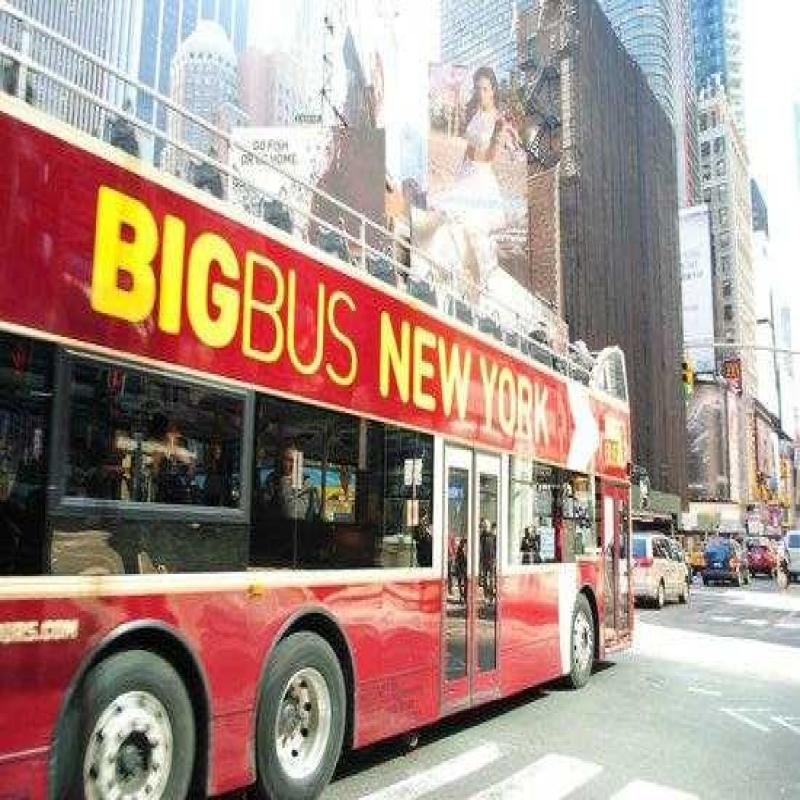bus: (5, 19, 647, 790)
